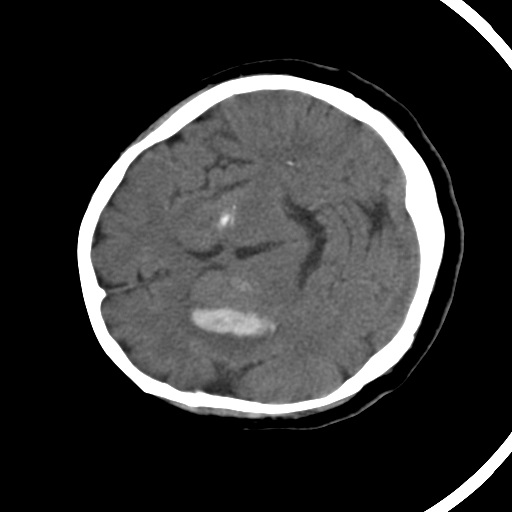a: (173, 297, 294, 359)
